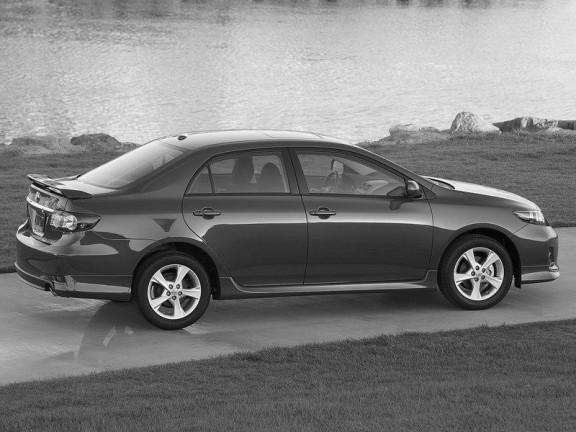car: (15, 128, 562, 331)
